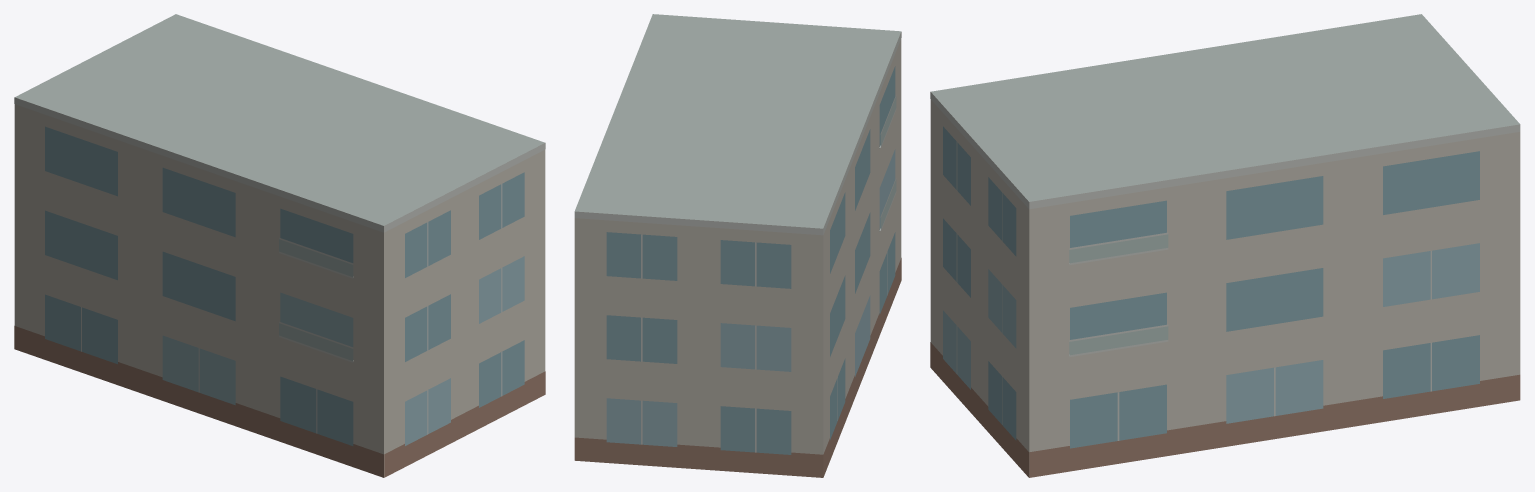
Rendered from survey-upis-32702946.glb.
3 renders of one model, left to right at view 1: azimuth 30°, elevation 25°; view 2: azimuth 150°, elevation 25°; view 3: azimuth 270°, elevation 25°, orthographic. The views are drawn at different scales.
Visible parts, largest first — view 1: survey-upis-32702946.tmp; view 2: survey-upis-32702946.tmp; view 3: survey-upis-32702946.tmp.
Boxes of the visible parts, x1,y1,x2,y2 form: survey-upis-32702946.tmp: (14, 14, 545, 477); survey-upis-32702946.tmp: (574, 14, 901, 477); survey-upis-32702946.tmp: (930, 14, 1520, 477).
Size of the model in its own units: 13.38 by 9.15 by 17.74.
